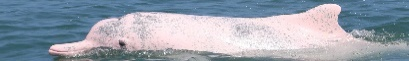fin: (47, 1, 370, 61)
